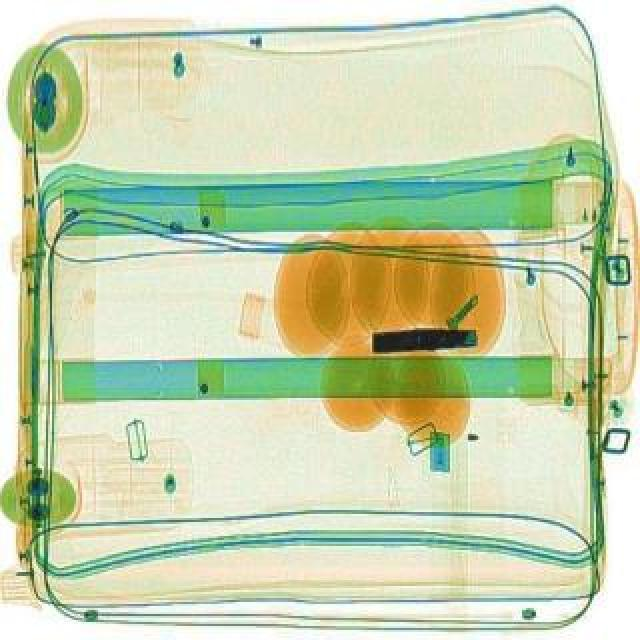gun: (370, 322, 478, 348)
